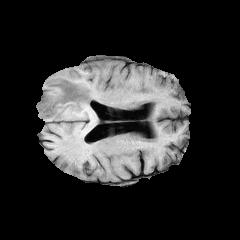glioma: (36, 77, 92, 119)
